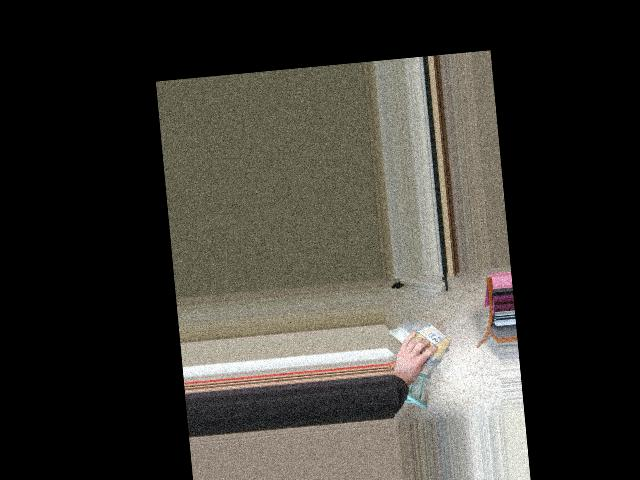cheese: (387, 320, 450, 359)
